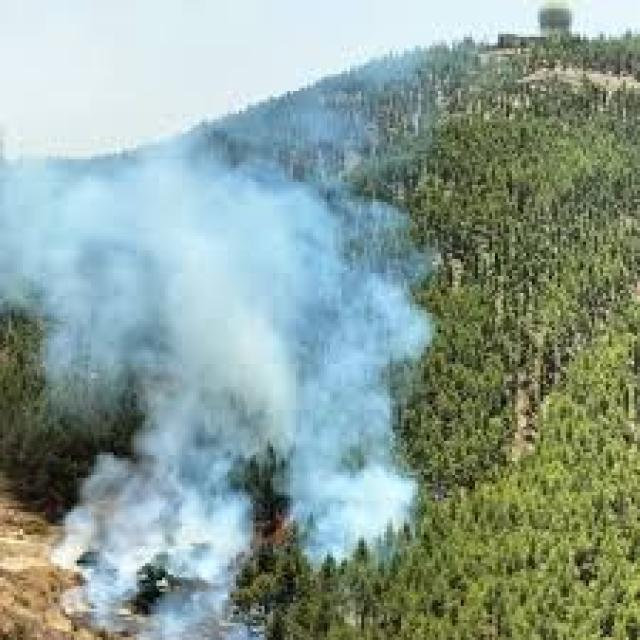Smoke: (0, 118, 465, 629), (0, 108, 440, 372), (54, 122, 248, 640), (61, 198, 347, 542), (58, 344, 438, 571), (258, 185, 452, 582)
